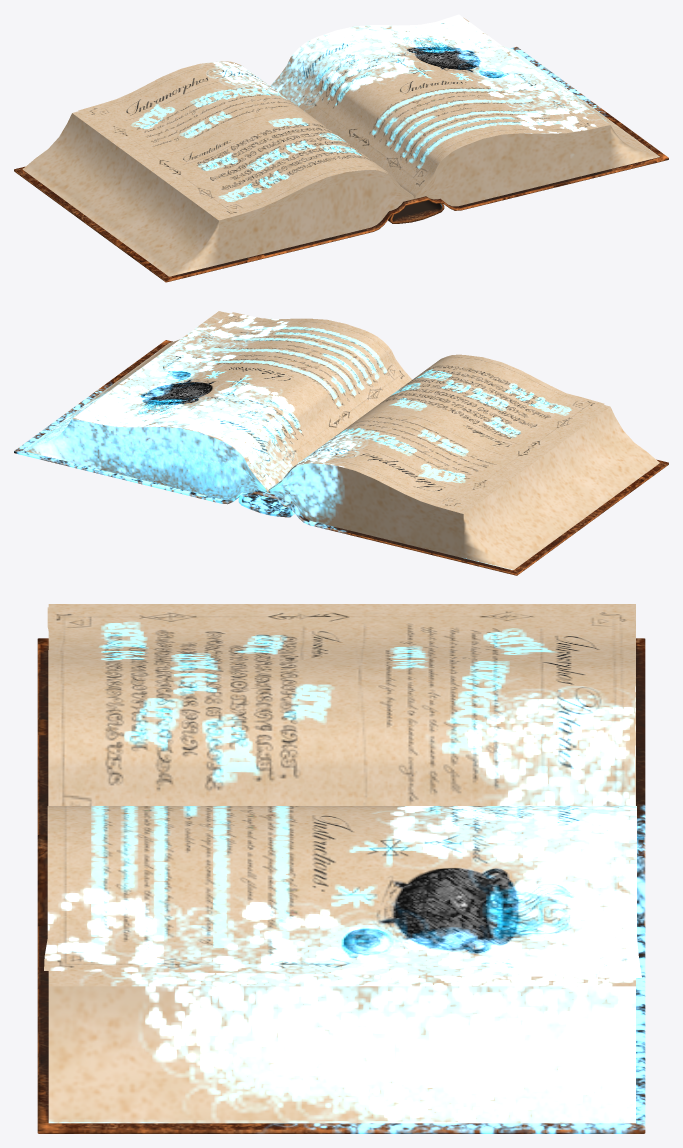
The model's file is openBook.glb.
3 renders of one model, top to bottom at view 1: azimuth 30°, elevation 25°; view 2: azimuth 150°, elevation 25°; view 3: azimuth 270°, elevation 25°, orthographic. The views are drawn at different scales.
Parts seen in each view (by area): view 1: polySurface139; view 2: polySurface139; view 3: polySurface139.
Part boxes in pixels (left/top/right/bottom): polySurface139: left=14, top=14, right=668, bottom=282; polySurface139: left=14, top=311, right=668, bottom=575; polySurface139: left=37, top=604, right=645, bottom=1133.
Size of the model in its own units: 0.7038 by 0.0868 by 0.3678.
Materials: 4 (4 with a texture image).
